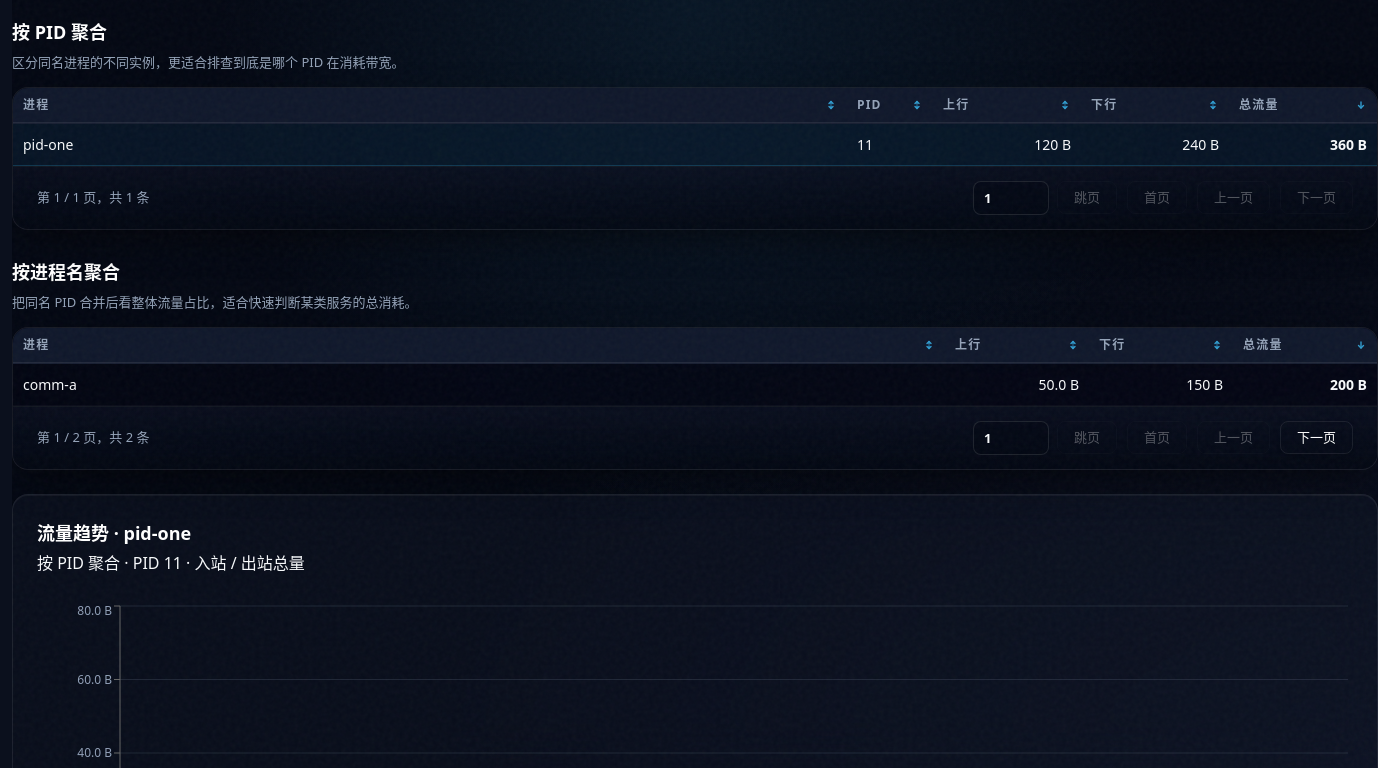
Test case: traffic-go web ui › keeps comm-table selection inside the comm table when the selected row disappears after pagination
(page scrolled)
Expected: the heading "流量趋势 · pid-one" is shown, [37,521,191,545]
Click the text "comm-a" at (695, 385), box [13,364,1377,406]
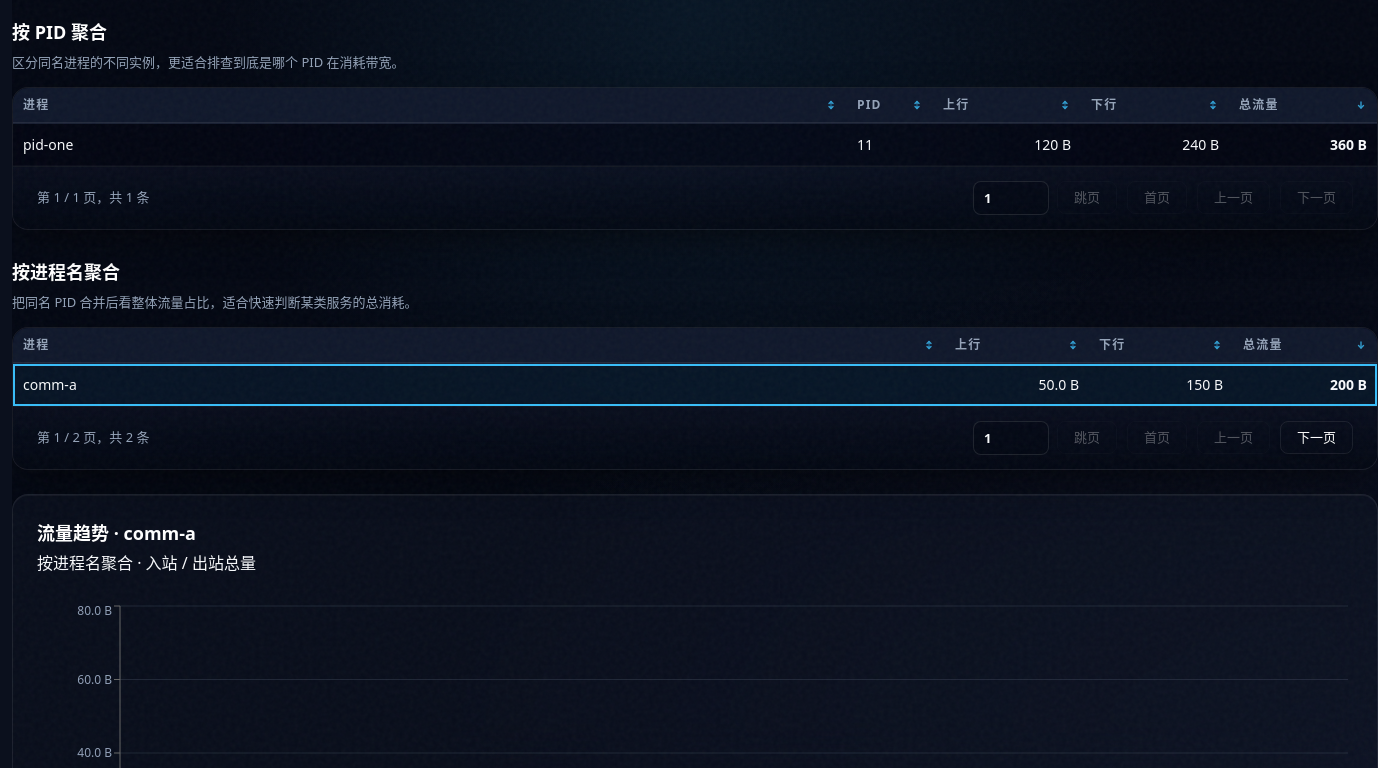
Now the heading "流量趋势 · comm-a" is shown, box [37,521,196,545]
Click the button "下一页" in the row of "共 2 条" at (1316, 438), box [1280,421,1353,454]
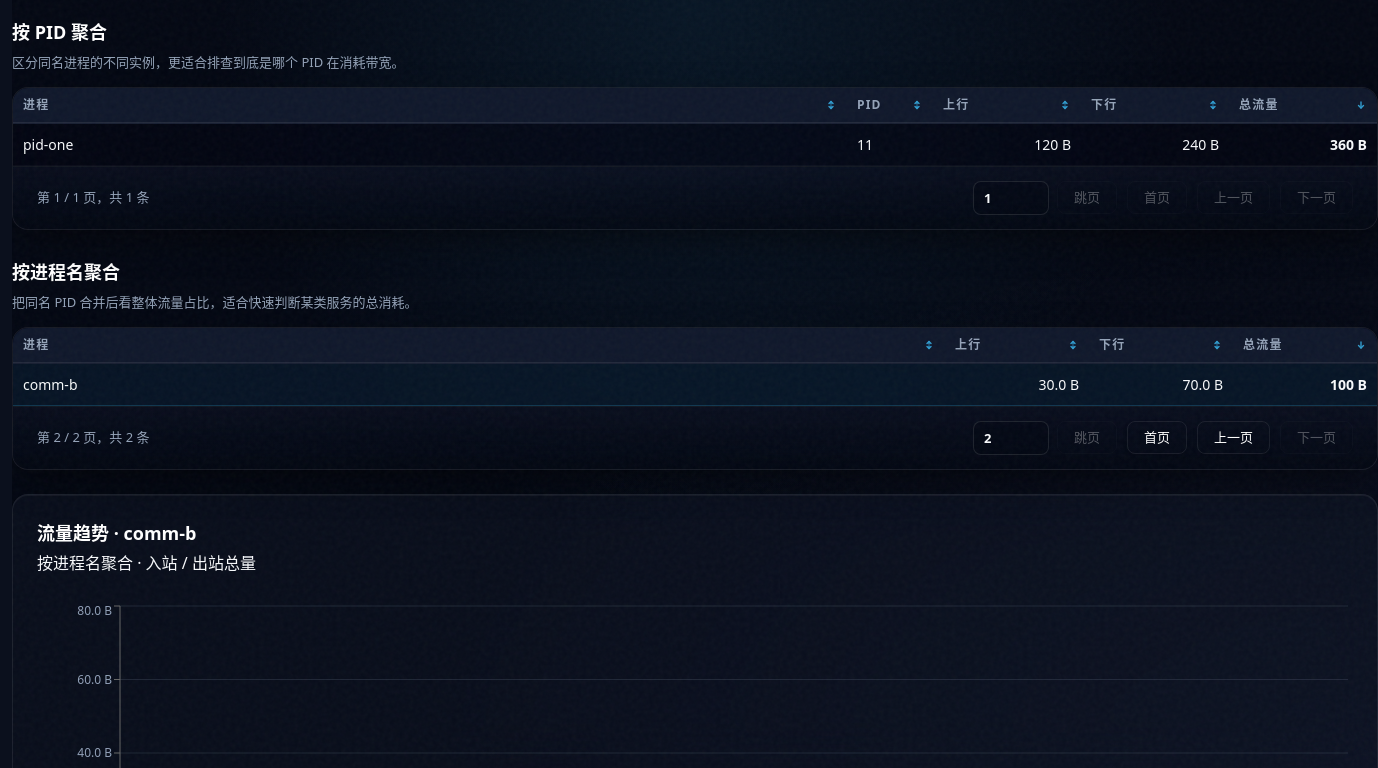
Expected: the number of rows with class "selected" is 1, [13,364,1377,406]
Now the heading "流量趋势 · comm-b" is shown, box [37,521,196,545]
Now the row with class "selected" shows "comm-b", box [23,375,78,394]
